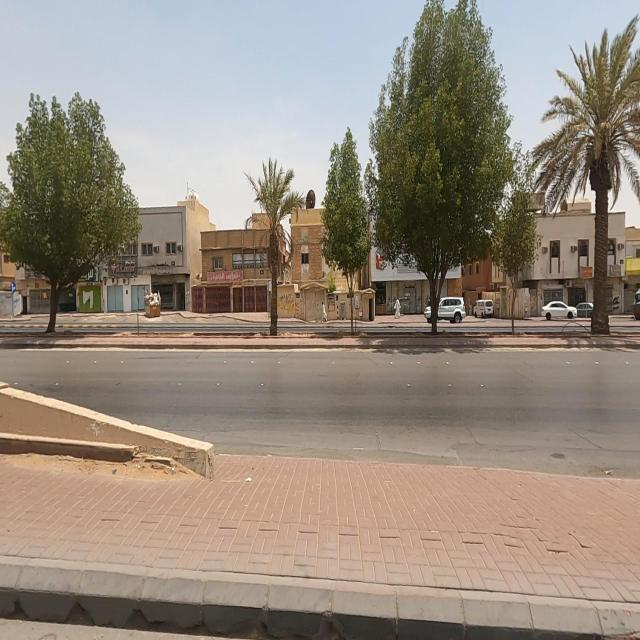Graffiti: (279, 294, 295, 314), (296, 302, 300, 317)
